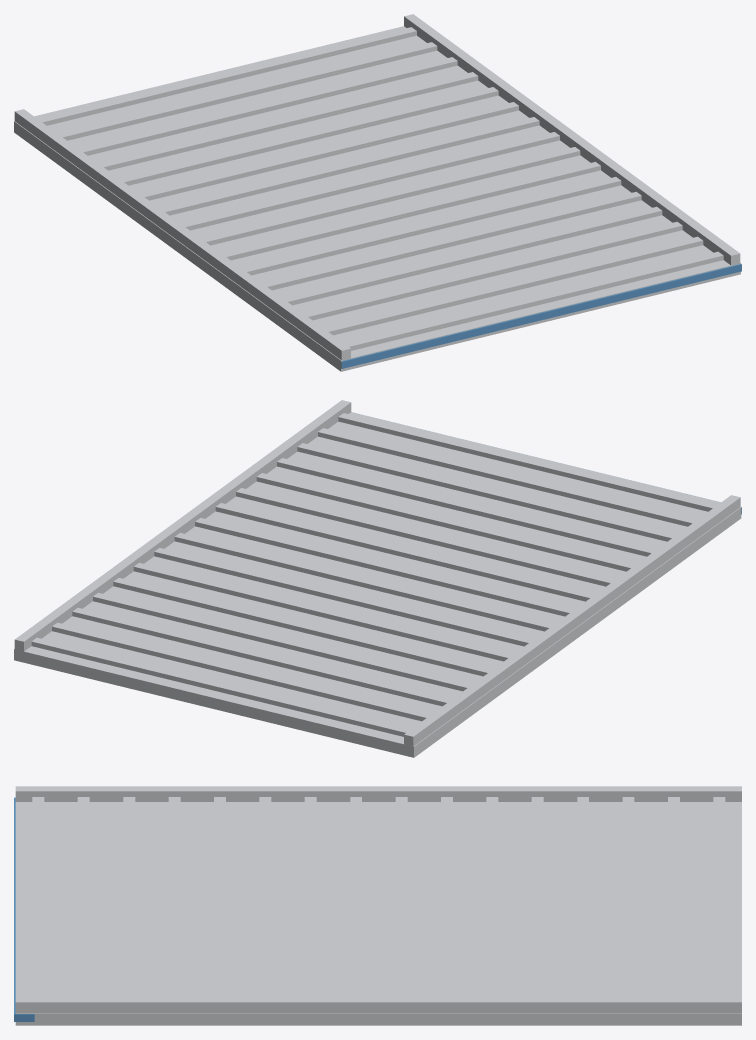
File: hall-roof-cladding-bay.glb
The picture shows the model from 3 angles, top to bottom: view 1: azimuth 30°, elevation 25°; view 2: azimuth 150°, elevation 25°; view 3: azimuth 270°, elevation 25°; orthographic projection. The views are drawn at different scales.
Parts seen in each view (by area): view 1: hall-roof-cladding-bay; view 2: hall-roof-cladding-bay; view 3: hall-roof-cladding-bay.
Boxes of the visible parts, bbox=[...] form: hall-roof-cladding-bay: bbox=[14, 14, 741, 371]; hall-roof-cladding-bay: bbox=[14, 400, 741, 757]; hall-roof-cladding-bay: bbox=[14, 786, 741, 1025].
Size of the model in its own units: 6 by 0.2999 by 8.52.
